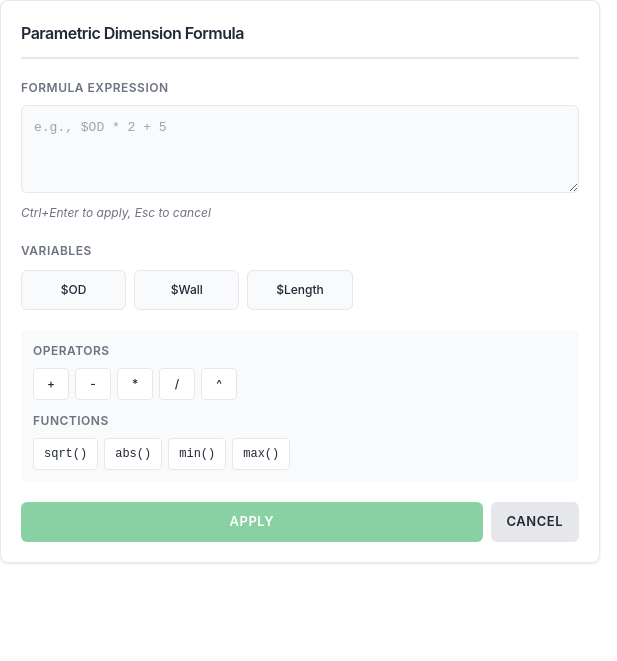
FormulaEditor Component › Formula Evaluation › should evaluate simple numeric formula
This screenshot has width=617, height=661.
Type "5 + 5" into the text box with placeholder "e.g., $OD * 2 + 5" at (300, 149), box [21,105,579,193]
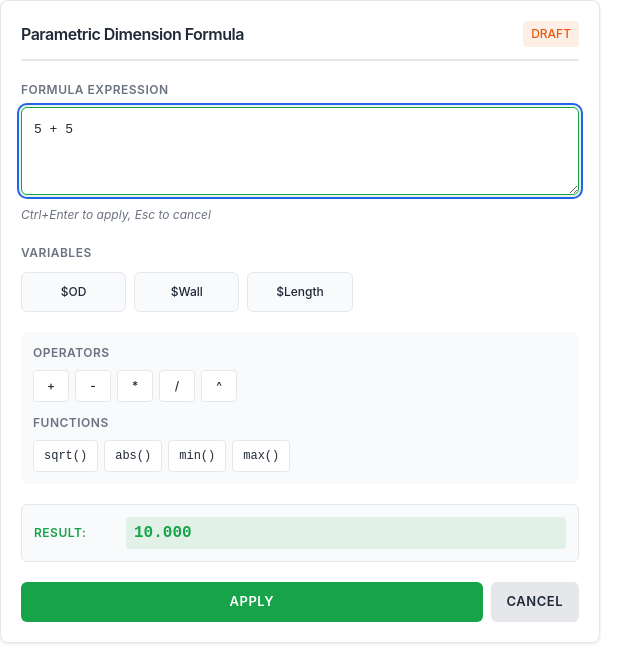
Result: the text "10.000" is shown at [126,517,566,549]
